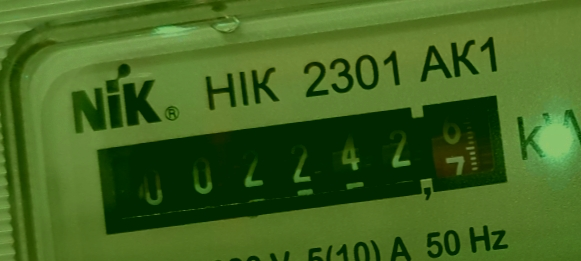0: (187, 152, 216, 197), (238, 145, 266, 190), (139, 163, 166, 209)
2: (384, 125, 414, 171), (287, 140, 315, 186)
4: (335, 129, 363, 175)
6: (438, 111, 465, 147)
7: (443, 153, 468, 178)
screen: (84, 83, 526, 251)
